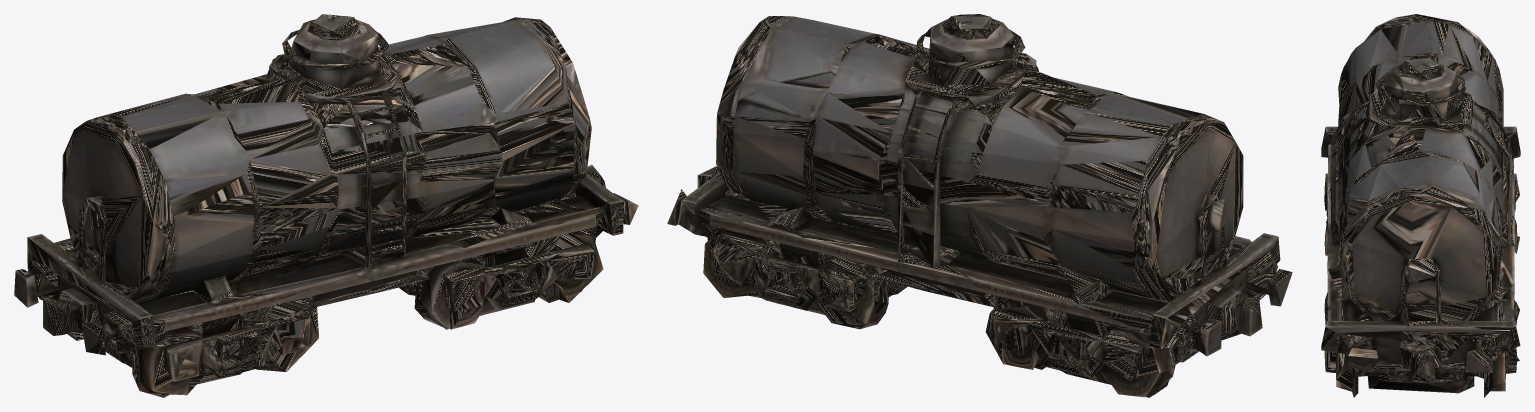
File: rail_tank.glb
The picture shows the model from 3 angles, left to right: view 1: azimuth 30°, elevation 25°; view 2: azimuth 150°, elevation 25°; view 3: azimuth 270°, elevation 25°; orthographic projection. The views are drawn at different scales.
Parts seen in each view (by area): view 1: normalize; view 2: normalize; view 3: normalize.
Part boxes in pixels (x1,y1,x2,y2): normalize: (14, 14, 638, 397); normalize: (667, 14, 1292, 397); normalize: (1321, 14, 1520, 397).
Bounding box in the file's own units: 1 × 0.5147 × 0.3664.
Materials: 1 (1 with a texture image).
